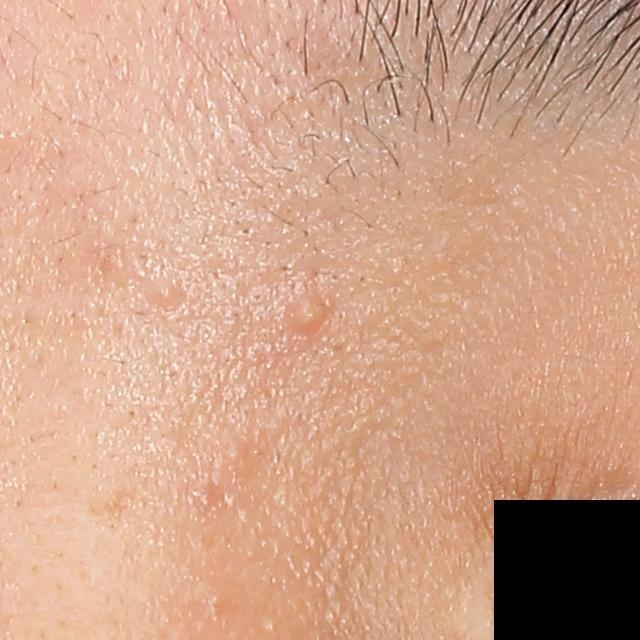comedo: (146, 280, 179, 312)
